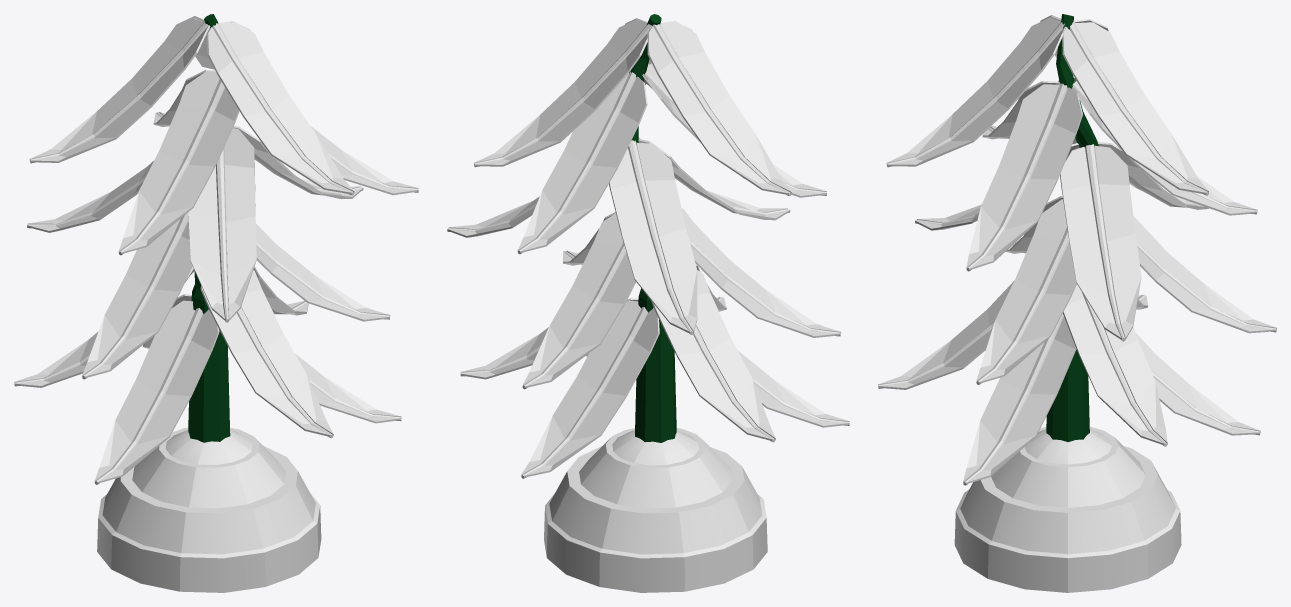
The model's file is Biyom_Yesil (3).fbx.
3 renders of one model, left to right at view 1: azimuth 30°, elevation 25°; view 2: azimuth 150°, elevation 25°; view 3: azimuth 270°, elevation 25°, orthographic.
Parts seen in each view (by area): view 1: Yesil_Agac_1, Yesil_Kaya; view 2: Yesil_Agac_1, Yesil_Kaya; view 3: Yesil_Agac_1, Yesil_Kaya.
Boxes of the visible parts, <box> form: Yesil_Agac_1: <box>14,14,418,484</box>; Yesil_Kaya: <box>97,427,321,592</box>; Yesil_Agac_1: <box>447,14,849,478</box>; Yesil_Kaya: <box>544,428,767,592</box>; Yesil_Agac_1: <box>878,14,1276,485</box>; Yesil_Kaya: <box>954,426,1181,592</box>.
Bounding box in the file's own units: 2.82 × 4.44 × 2.87.
